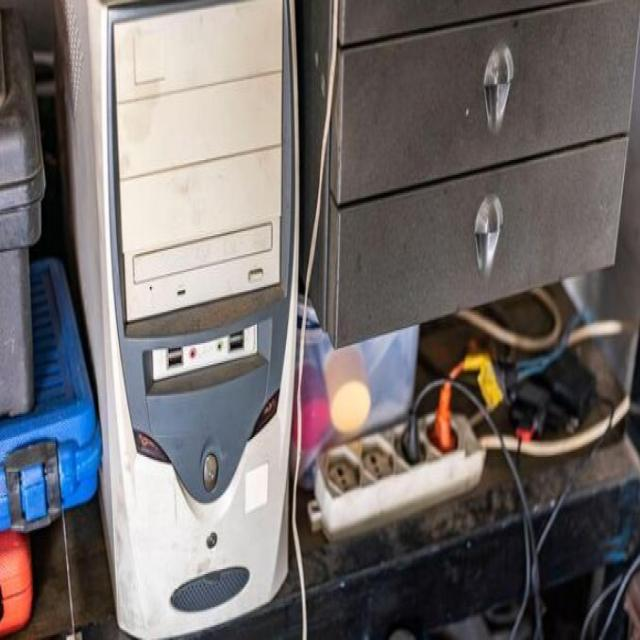electronic: (54, 0, 320, 640)
